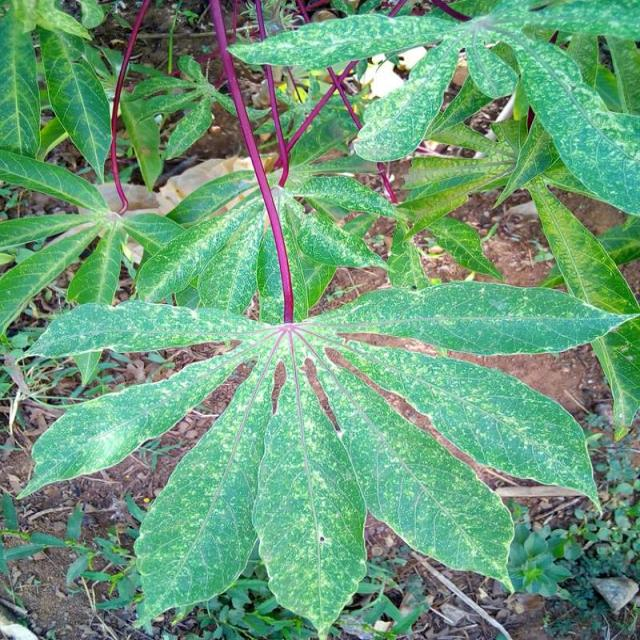cassava leaf: (8, 3, 638, 636)
